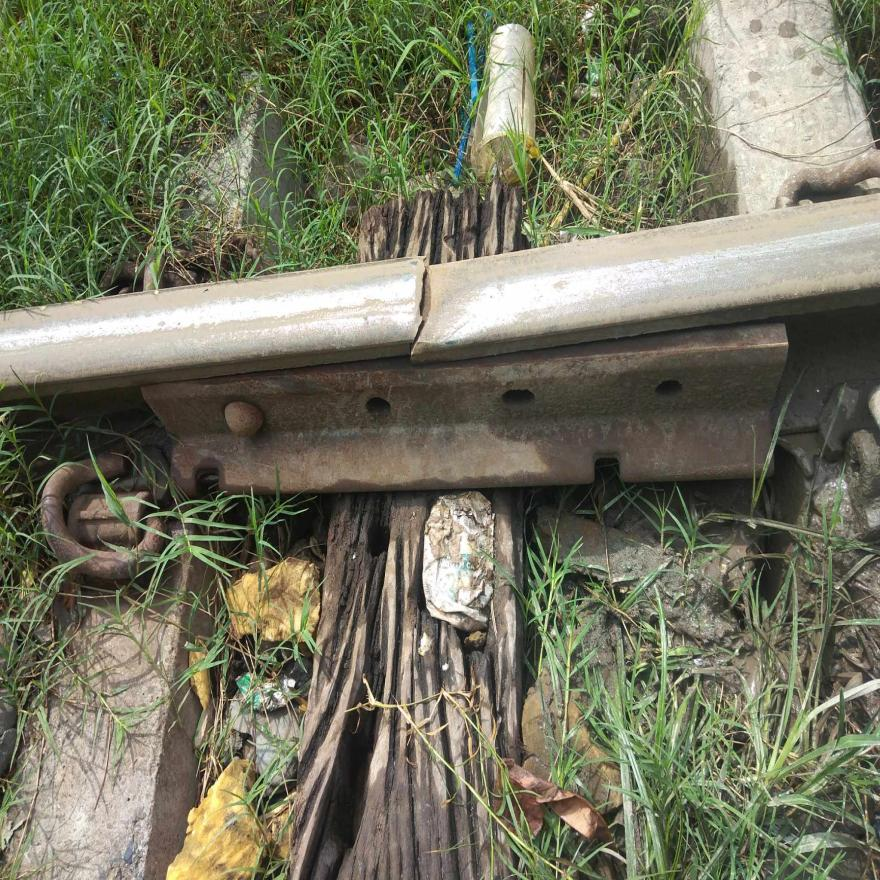railway-gap: (358, 229, 484, 392)
